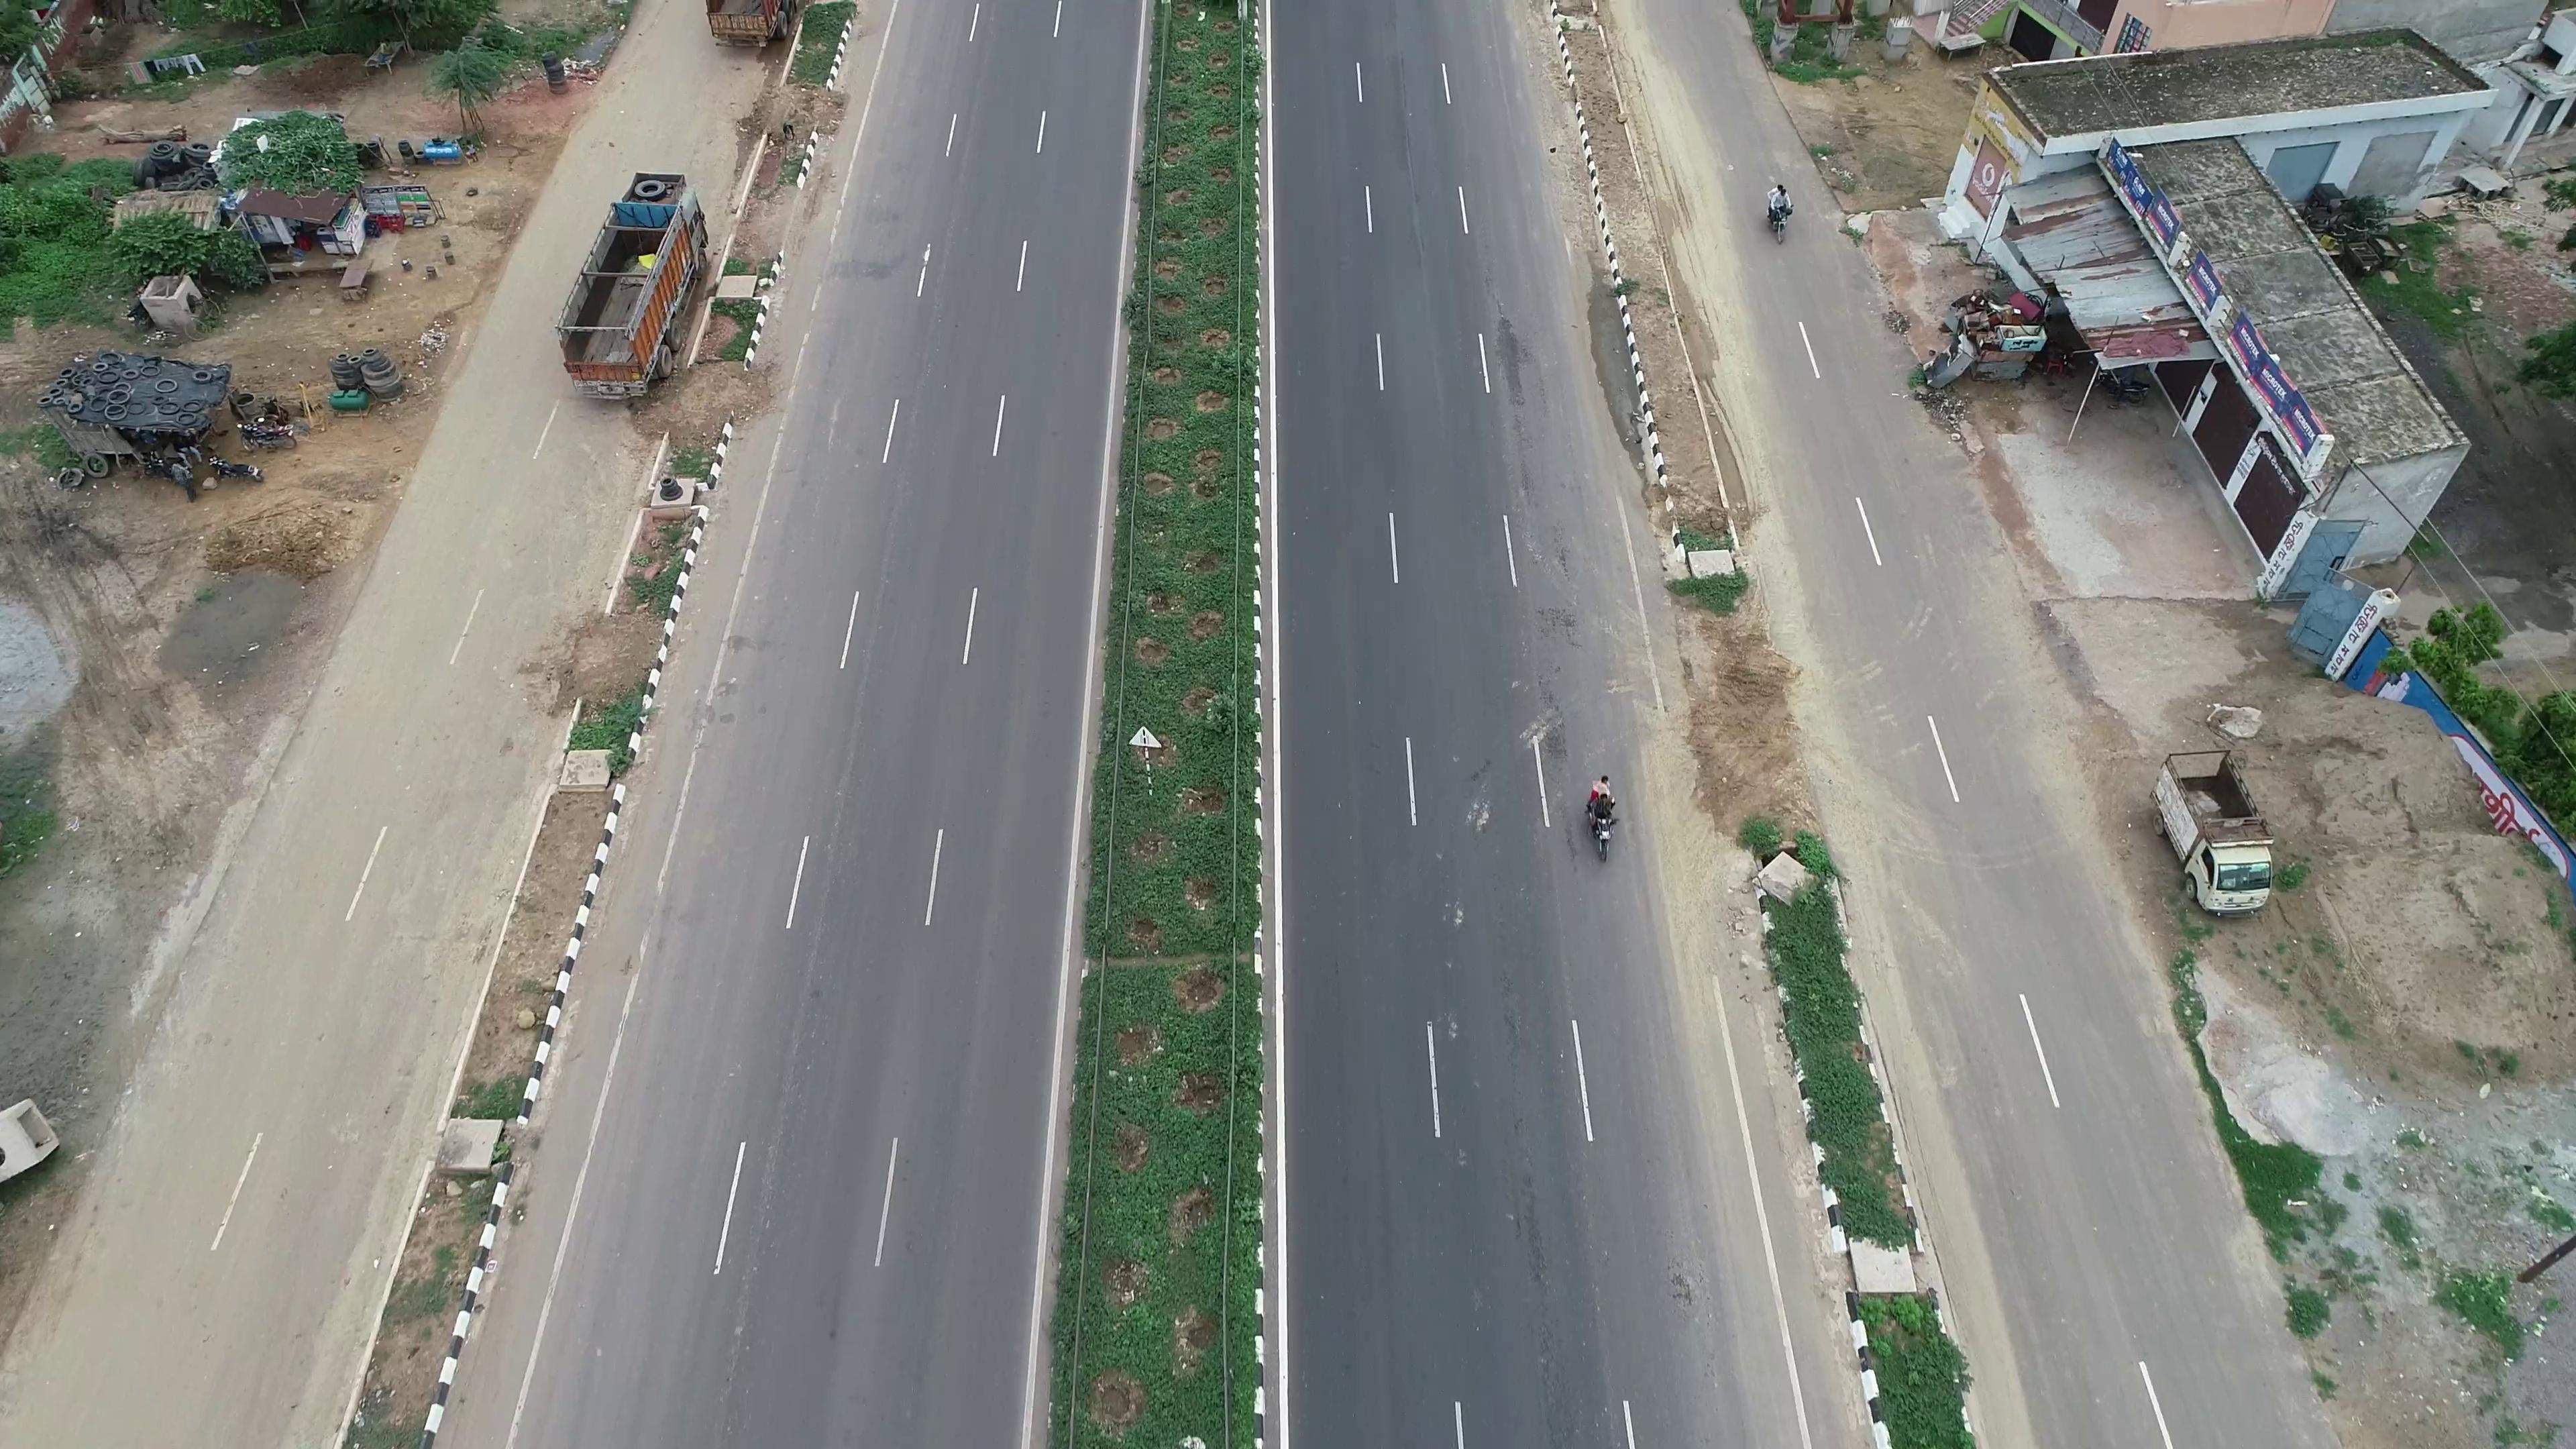Ravelling: (1488, 280, 1555, 522)
